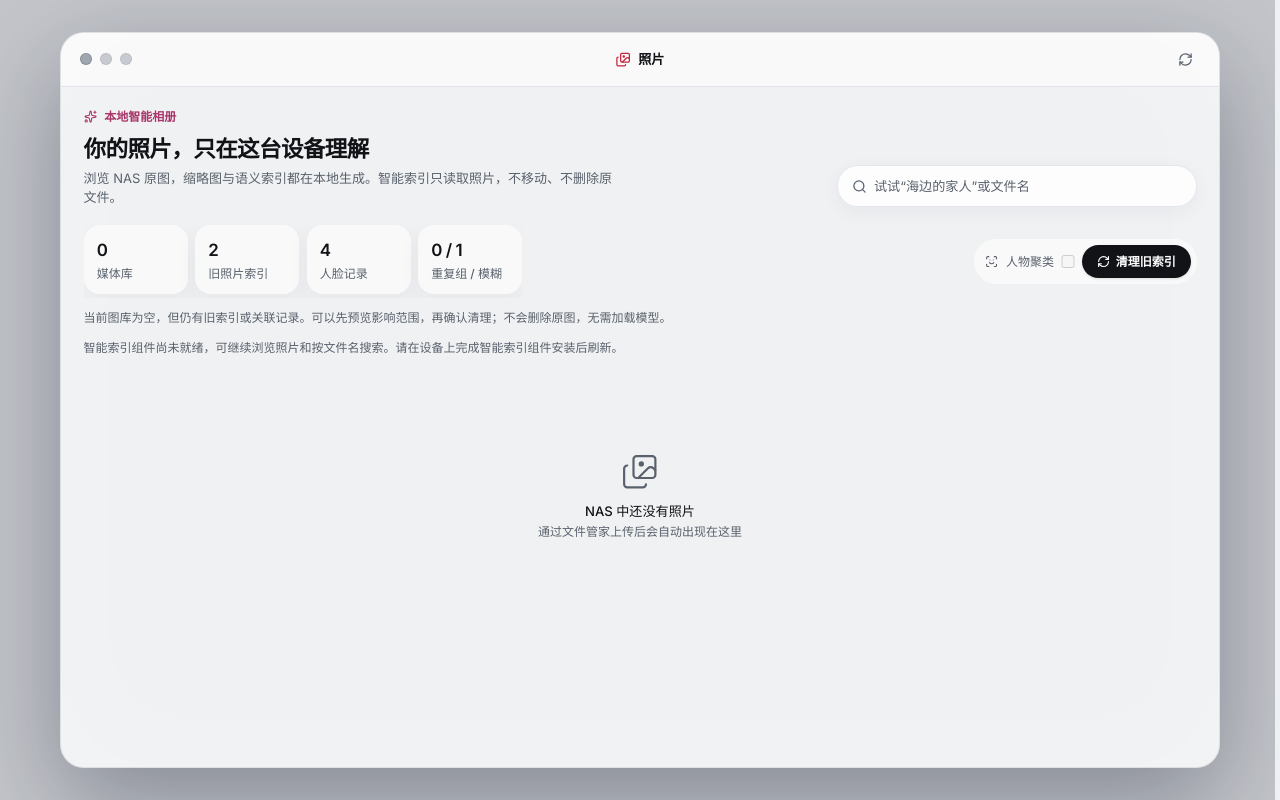
Test: PhotosPanel › discards a stale cleanup confirmation and requires a fresh plan after an apply conflict
Click the button "清理旧索引" at (1136, 262), box 1082,245 -> 1191,278
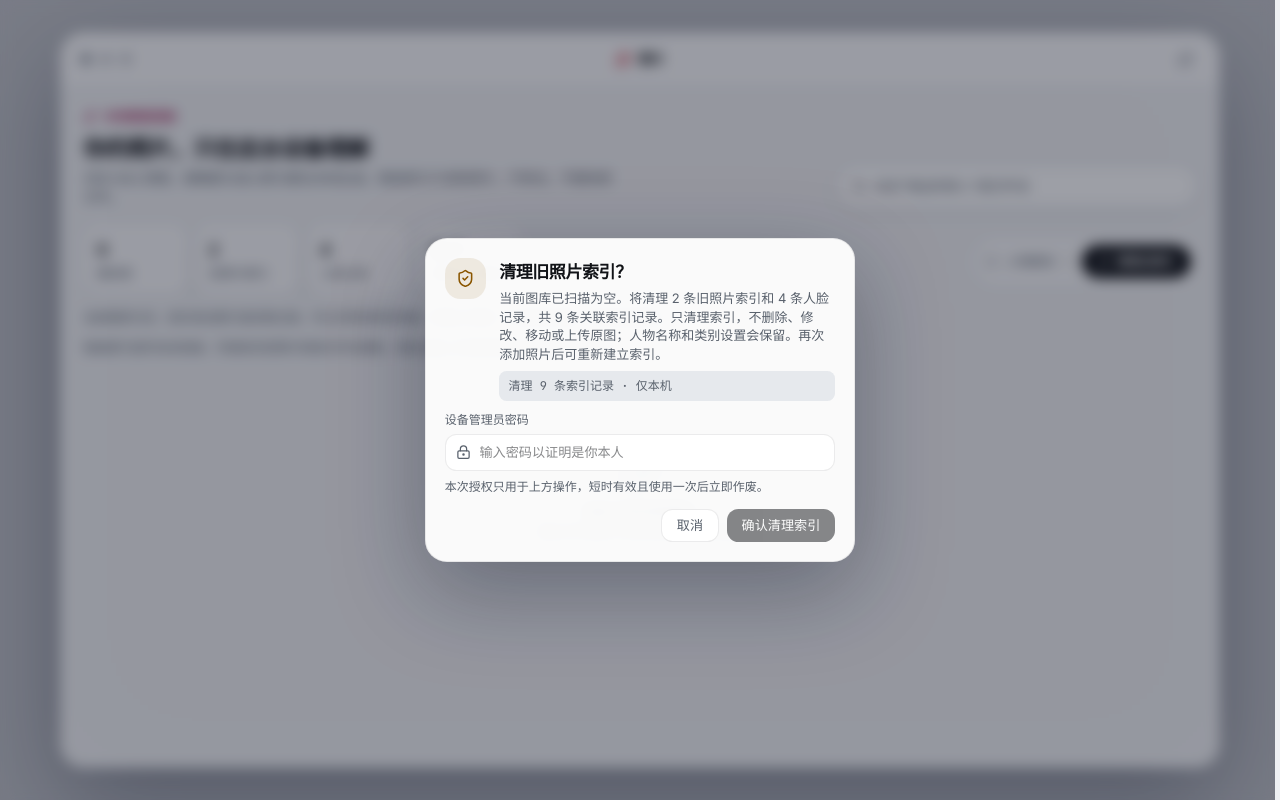
Expected: the dialog "清理旧照片索引？" is shown, 425,238 -> 855,562
Type "device-password" into the password field labelled "设备管理员密码" at (640, 452), box 445,434 -> 835,471
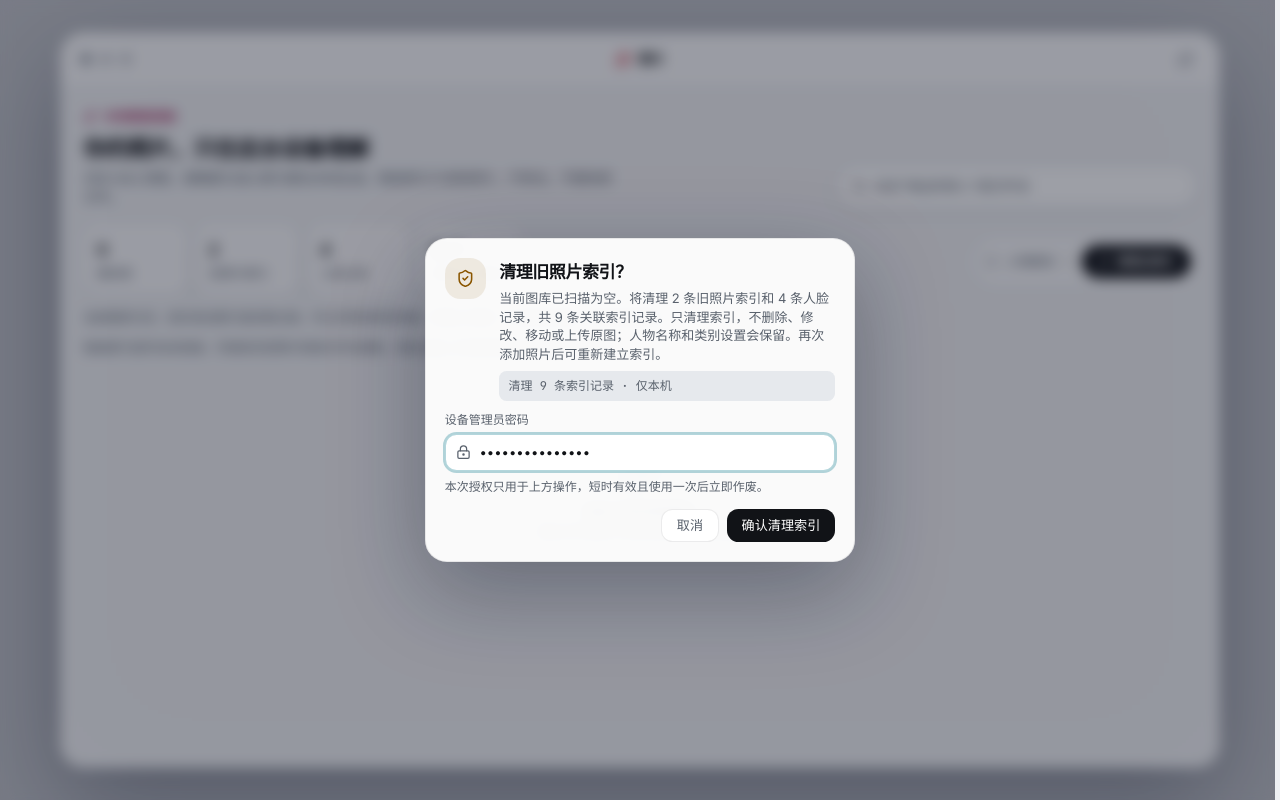
Click the button "确认清理索引" at (781, 525), box 727,508 -> 835,542
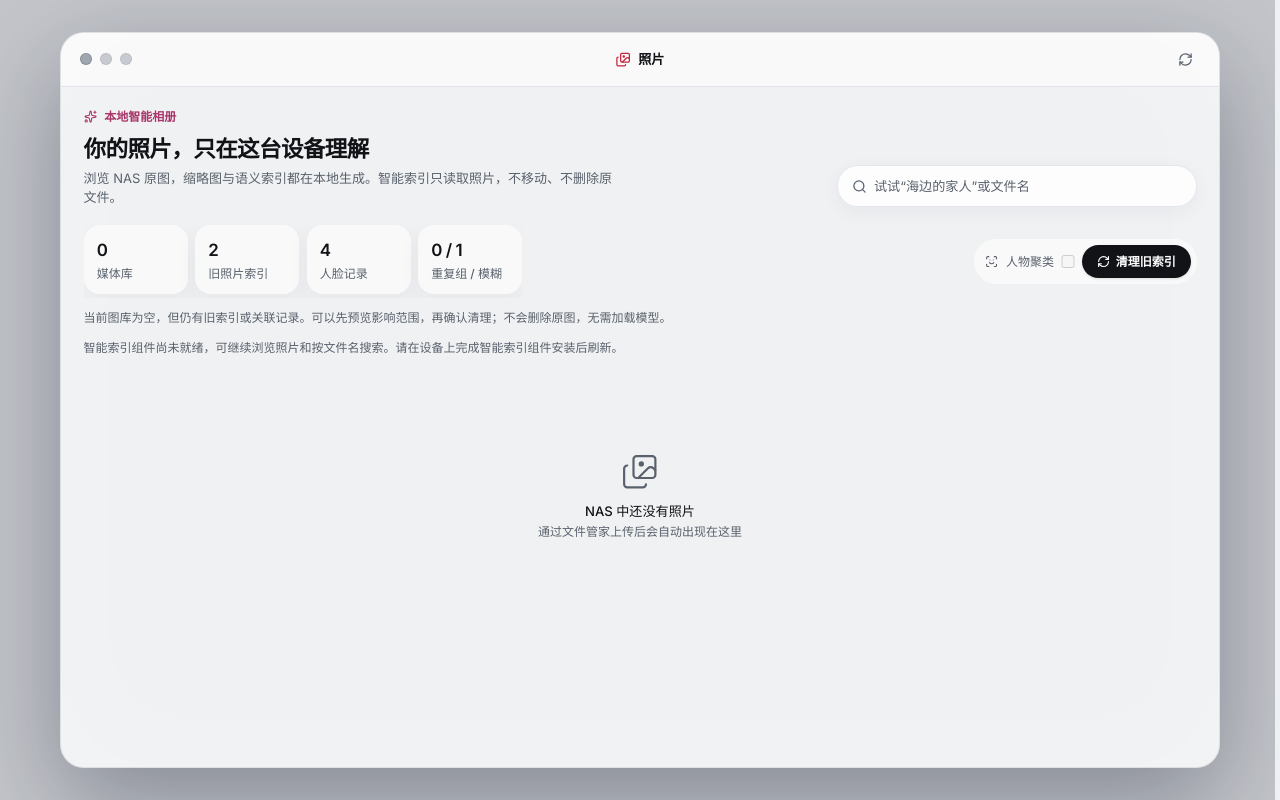
Click the button "清理旧索引" at (1136, 262), box 1082,245 -> 1191,278
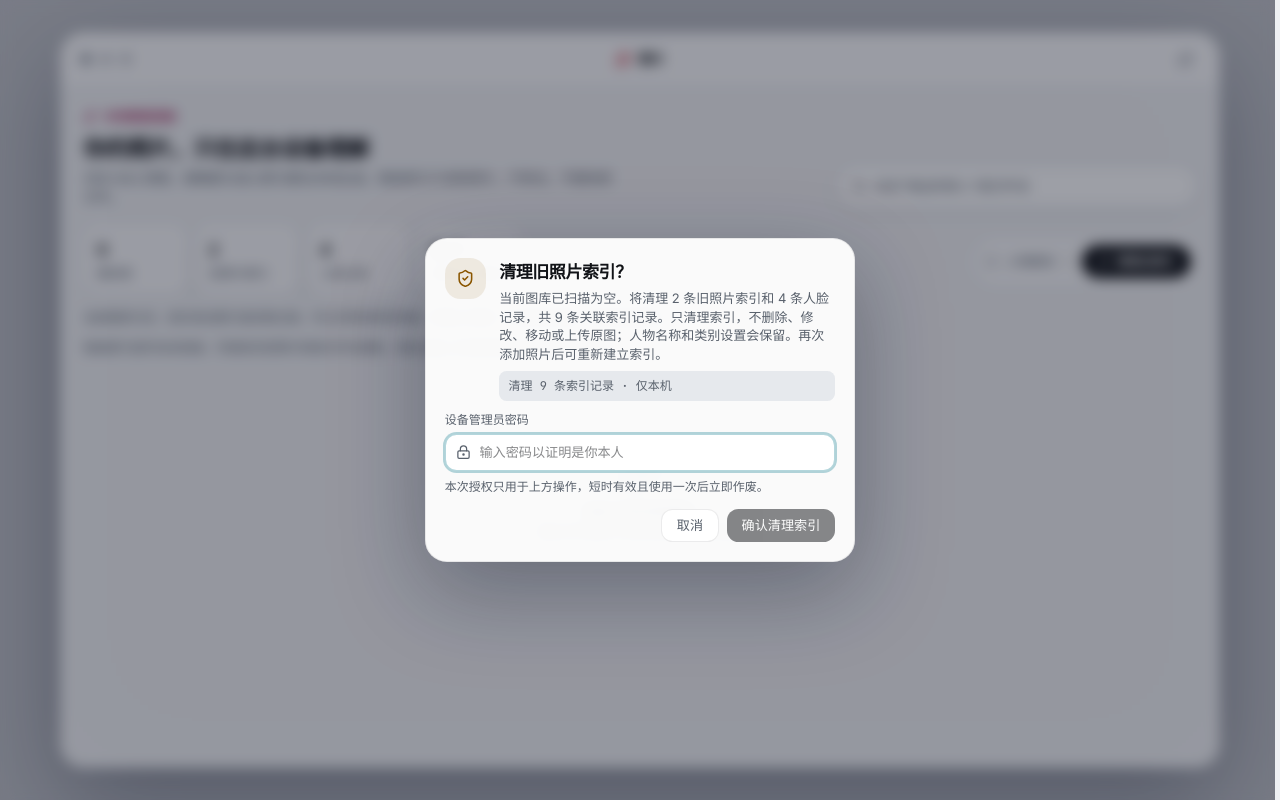
Expected: the dialog "清理旧照片索引？" is shown, 425,238 -> 855,562
